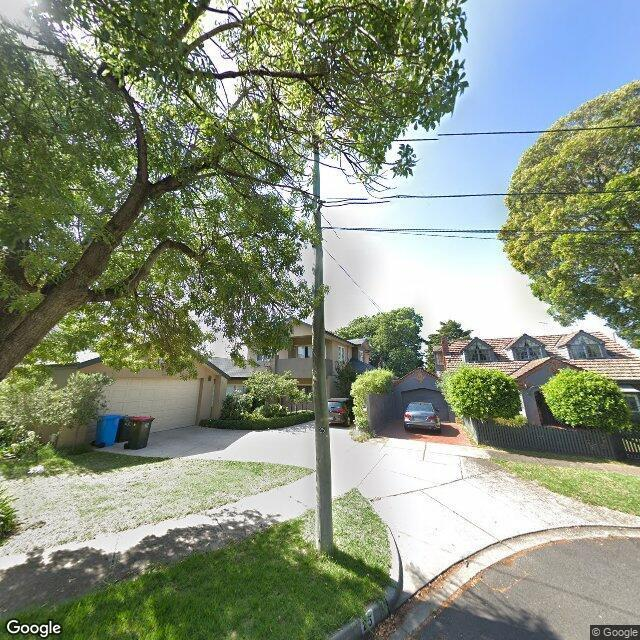timber-pole: (312, 133, 333, 553)
